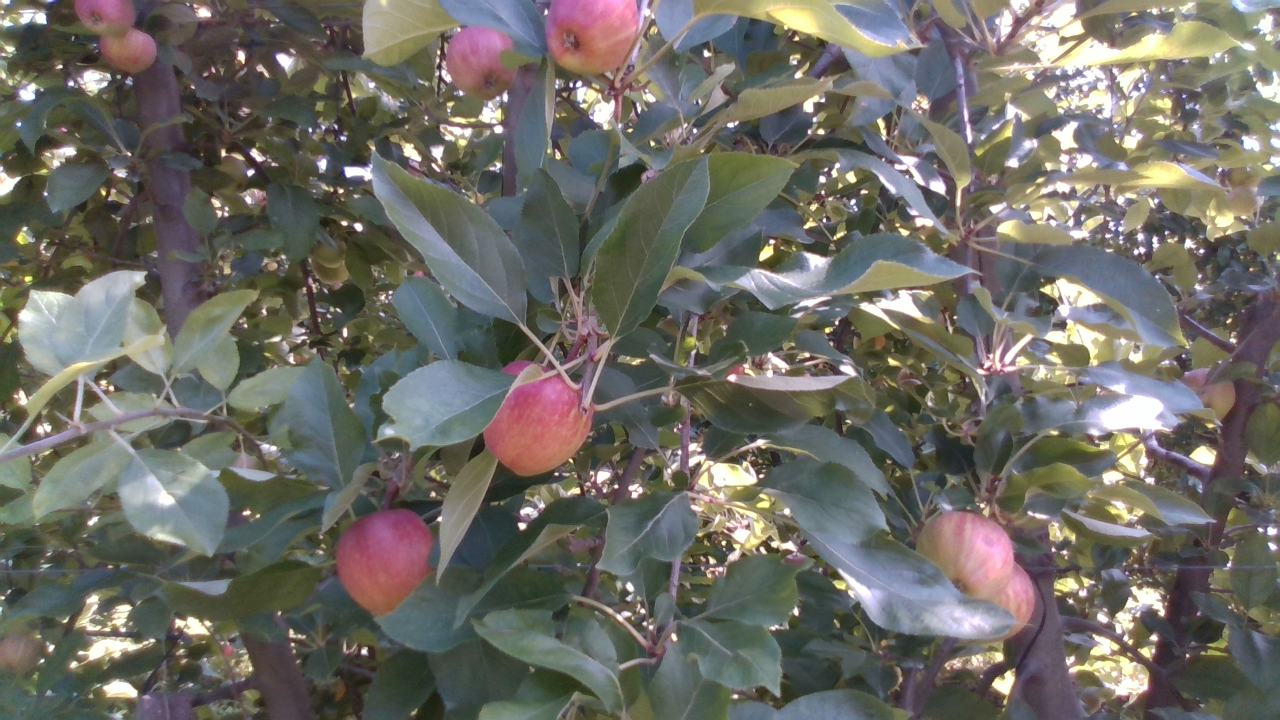apple: (483, 360, 594, 479), (334, 506, 436, 616), (914, 510, 1015, 604), (544, 1, 641, 77), (442, 26, 518, 100), (974, 562, 1038, 643), (1177, 366, 1236, 424), (97, 30, 159, 75), (73, 1, 140, 37), (1, 626, 44, 679), (1066, 671, 1104, 716), (213, 155, 250, 198), (1226, 182, 1263, 216), (308, 260, 352, 287), (311, 237, 349, 267)
